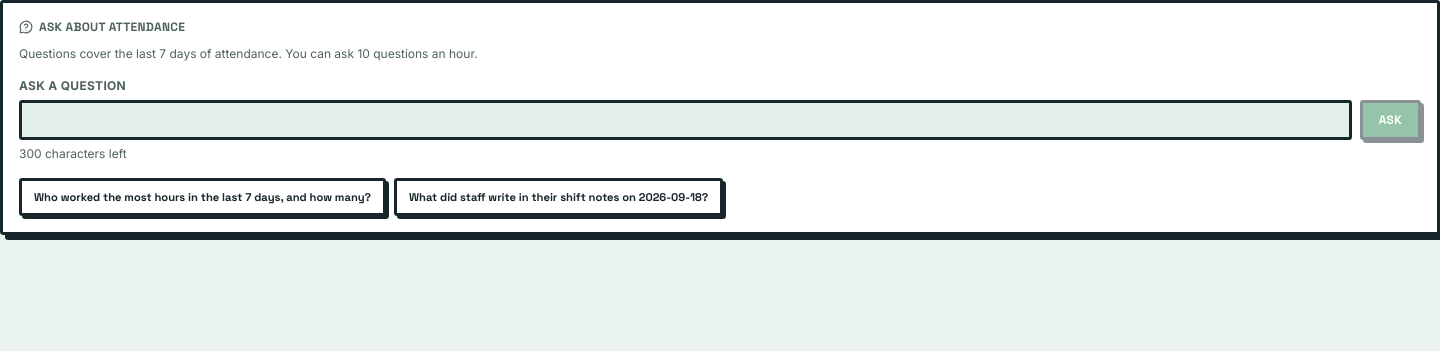
it: AskCard › sends the exact starter question when a chip is clicked
What coordinates should you click on to do the following:
click the button "What did staff write in their shift notes on 2026-09-18?"
I would click on:
 (559, 197)
Its box is [394,178,723,216].
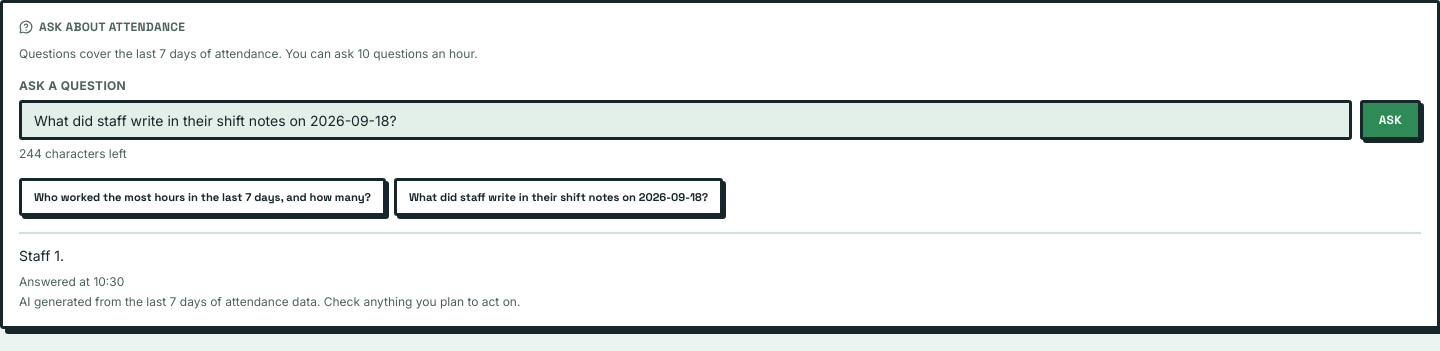
Now the text "Staff 1." is shown, box [19,247,64,264]
